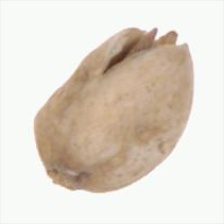L1: (97, 25, 188, 70), (43, 162, 95, 193)
L2: (31, 25, 194, 194)
